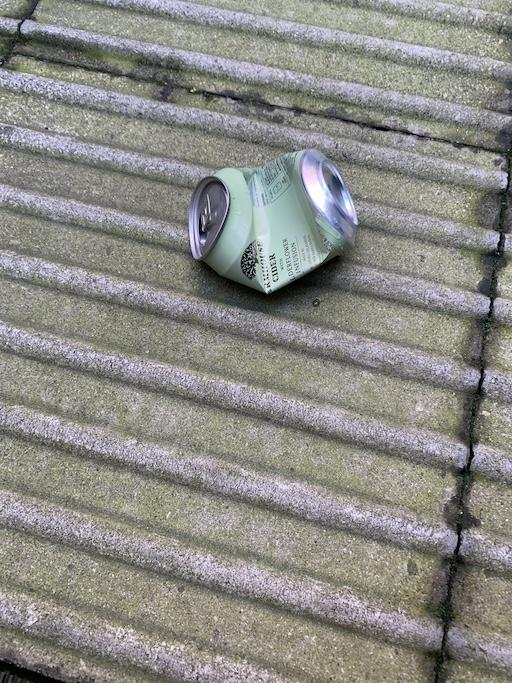Aluminum can: (166, 119, 372, 329)
